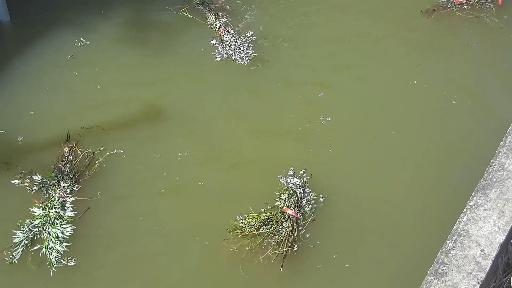twig: (0, 130, 157, 272), (215, 168, 341, 274), (191, 0, 260, 63), (431, 0, 512, 21)
